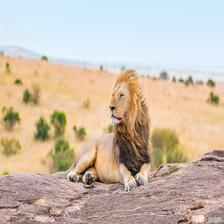Lion: (71, 68, 158, 191)
